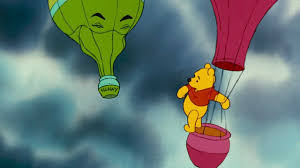Winnie: (172, 59, 220, 116)
